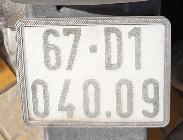0: (78, 77, 103, 118), (29, 76, 52, 120), (113, 74, 136, 118)
1: (128, 26, 143, 73)
4: (58, 77, 79, 118)
6: (42, 29, 64, 71)
7: (62, 28, 81, 70)
9: (139, 78, 162, 120)
D: (101, 27, 123, 73)
